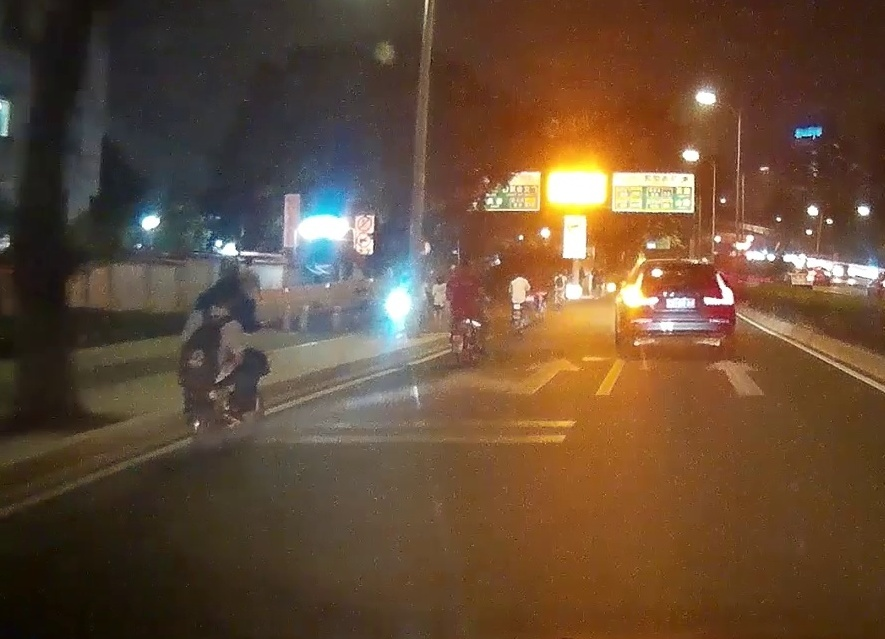L_light: (627, 272, 658, 307)
R_light: (703, 273, 734, 306)
T_light: (668, 264, 684, 268)
night-left: (619, 259, 735, 349)
